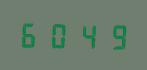four: (72, 19, 98, 50)
nine: (99, 20, 125, 50)
six: (18, 19, 44, 49)
zero: (45, 19, 71, 49)
